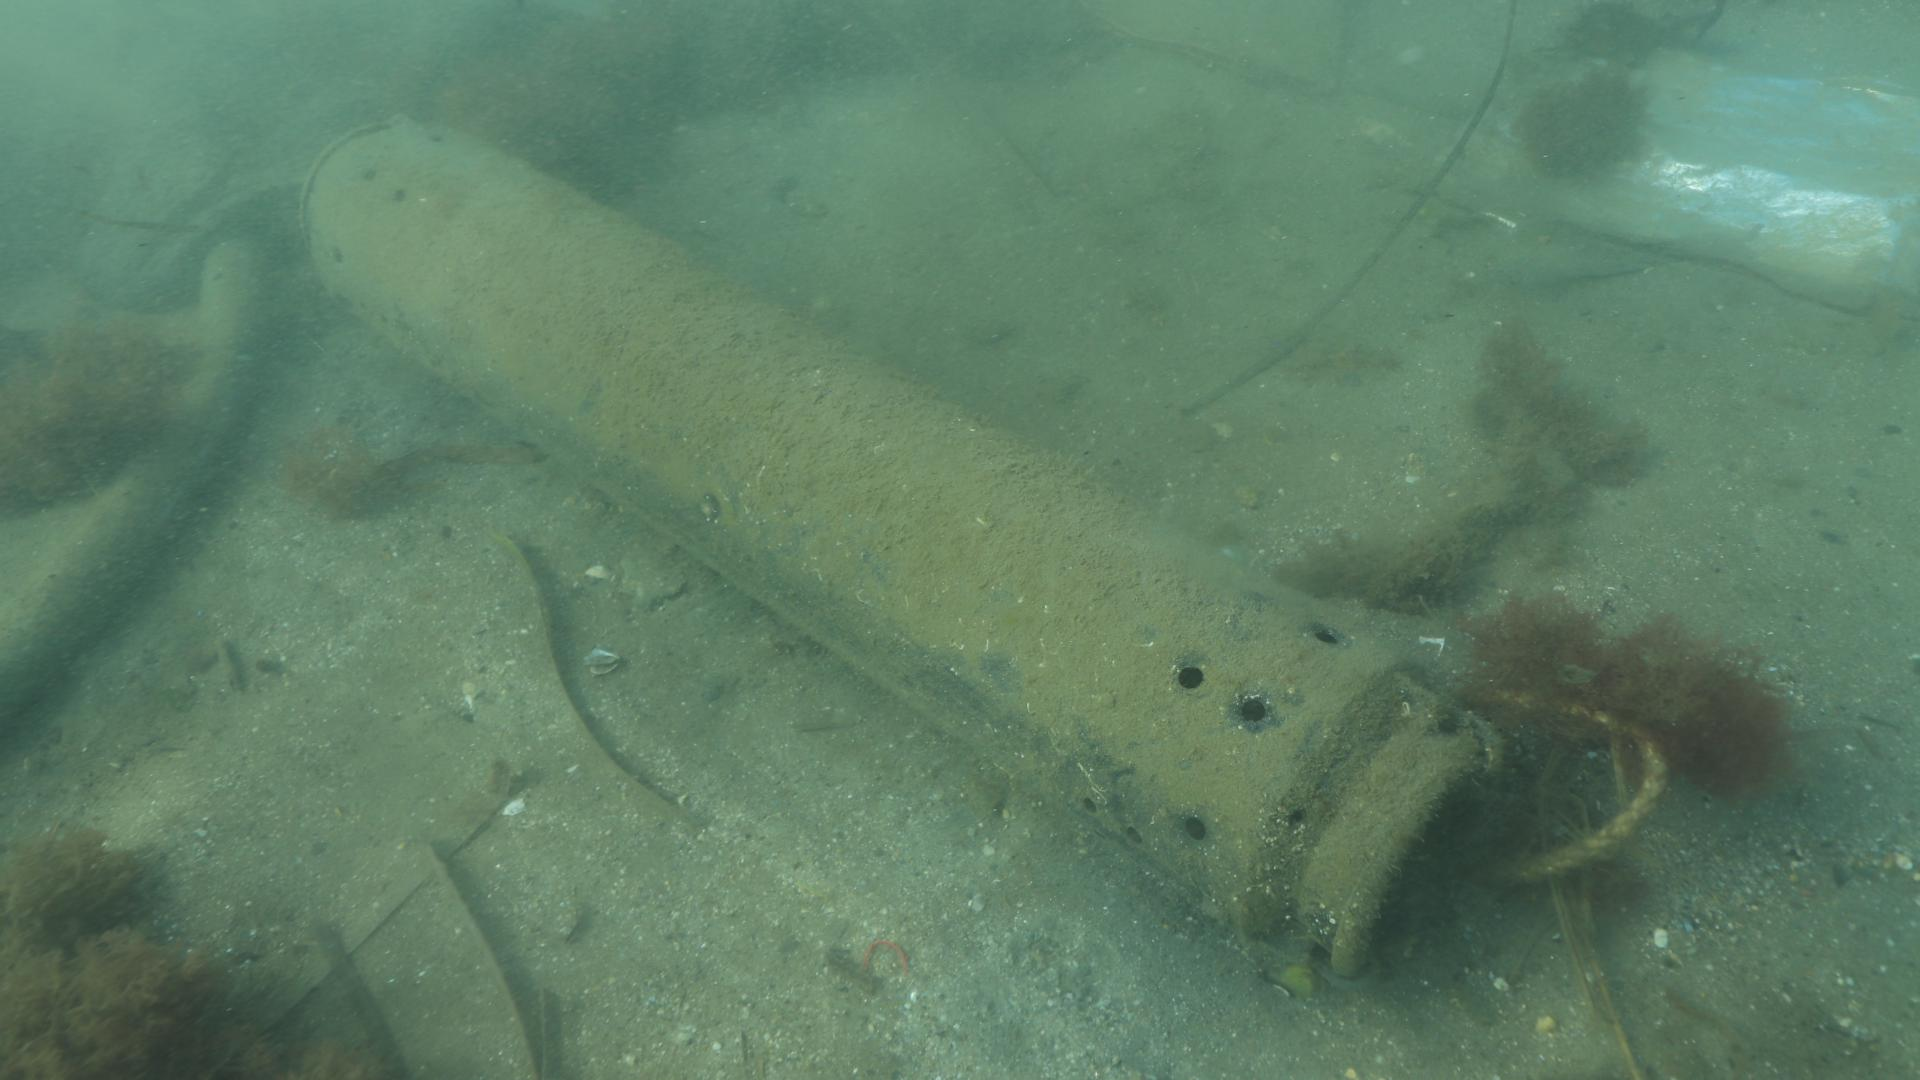eel fish trap: (299, 115, 1506, 992)
rope: (1461, 683, 1665, 884)
